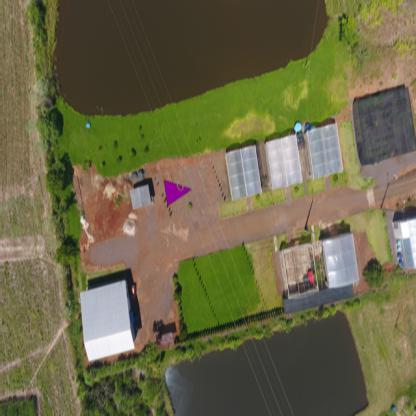U: (176, 181, 185, 192)
triangle: (164, 179, 192, 206)
